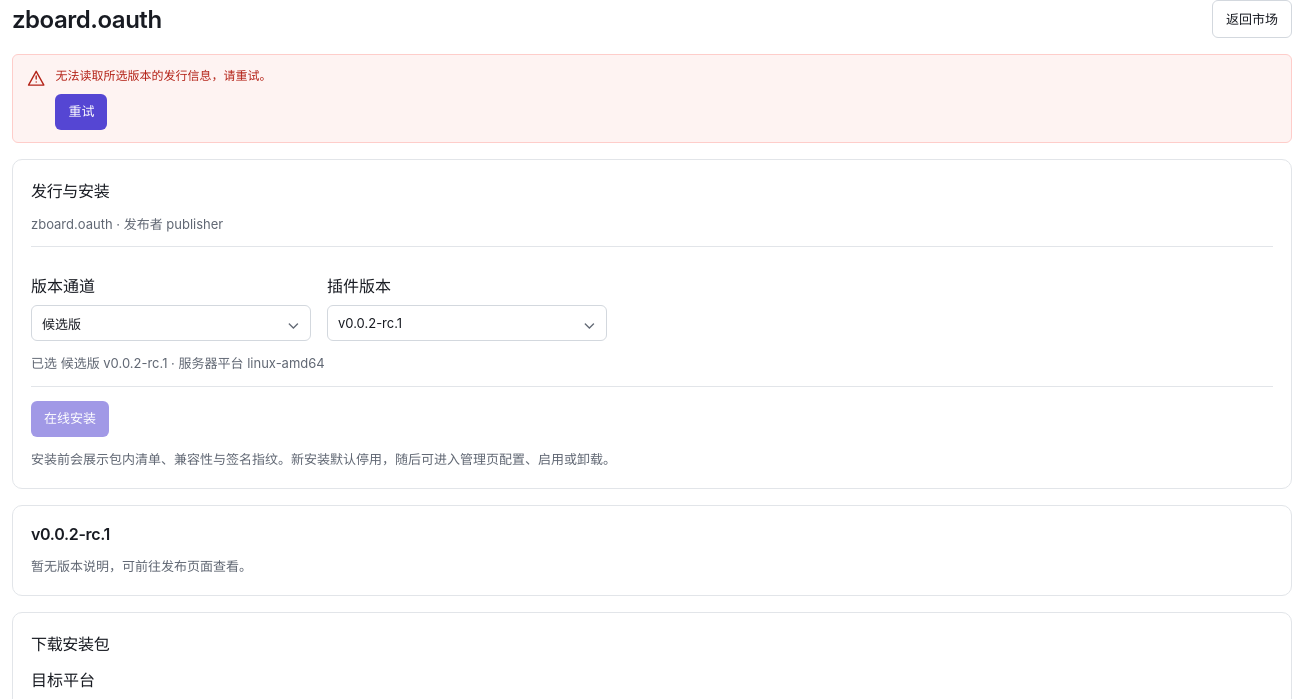
Test: retries the selected version after a request failure and does not install stale metadata
Expected: the button "在线安装" is disabled, top-left (31, 401), bottom-right (109, 437)
Step 1. Click the button "重试" → {"x": 81, "y": 112}, box top-left (55, 94), bottom-right (107, 130)
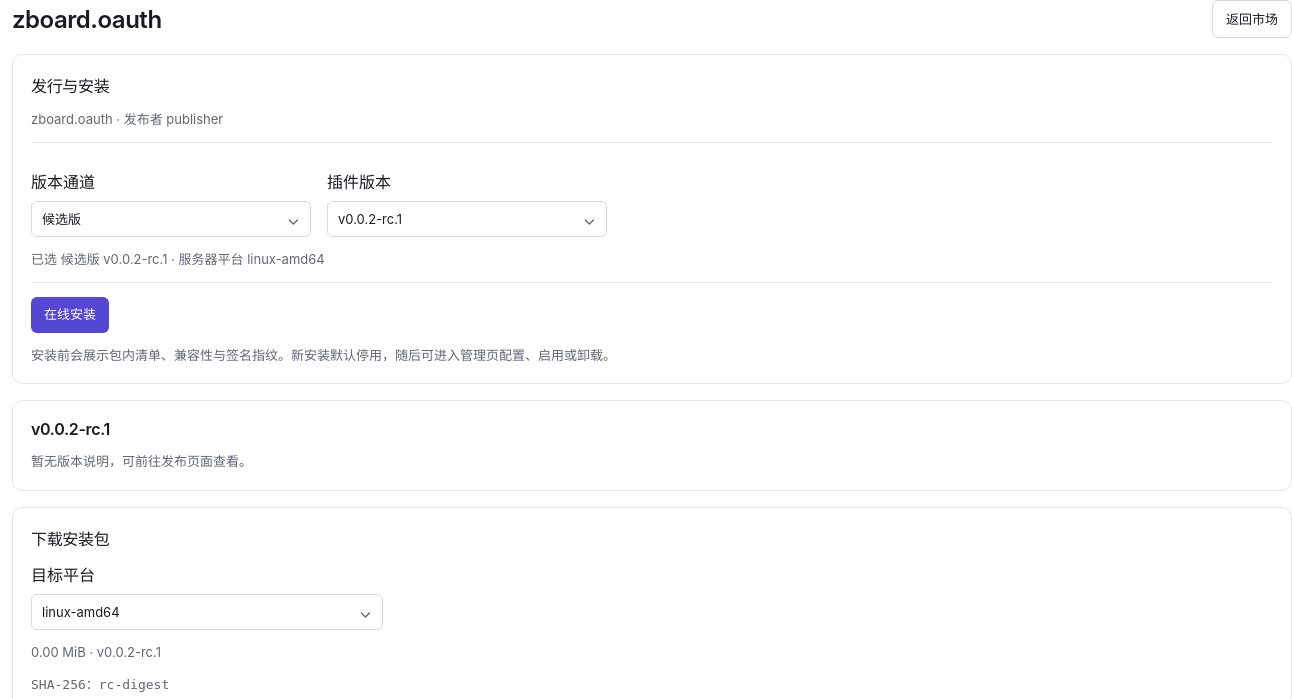
Expected: the text "已选 候选版 v0.0.2-rc.1" is shown, top-left (31, 251), bottom-right (325, 267)
Expected: the button "在线安装" is enabled, top-left (31, 297), bottom-right (109, 333)
